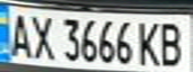3: (57, 14, 81, 62)
6: (112, 17, 139, 65), (78, 16, 100, 63), (97, 17, 118, 64)
A: (3, 9, 33, 60)
B: (154, 18, 190, 68)
K: (133, 18, 163, 68)
X: (27, 11, 57, 61)
